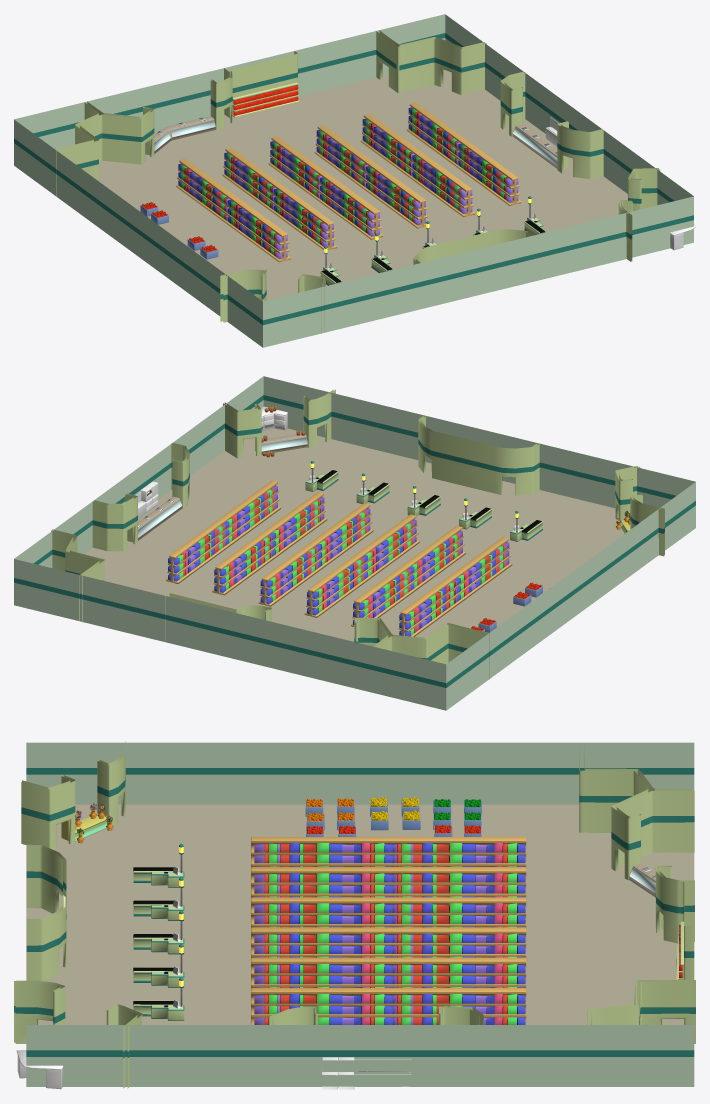
File: Mayhem_Level.glb
3 renders of one model, top to bottom at view 1: azimuth 30°, elevation 25°; view 2: azimuth 150°, elevation 25°; view 3: azimuth 270°, elevation 25°, orthographic. The views are drawn at different scales.
Parts seen in each view (by area): view 1: Level; view 2: Level; view 3: Level.
Boxes of the visible parts, x1=… form: Level: x1=14, y1=14, x2=695, y2=347; Level: x1=14, y1=376, x2=695, y2=710; Level: x1=14, y1=741, x2=695, y2=1089.
Size of the model in its own units: 84.3 by 8.5 by 84.08.
38 materials, 1 textured.
